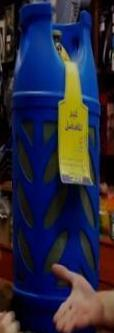cylinder: (0, 1, 114, 333)
